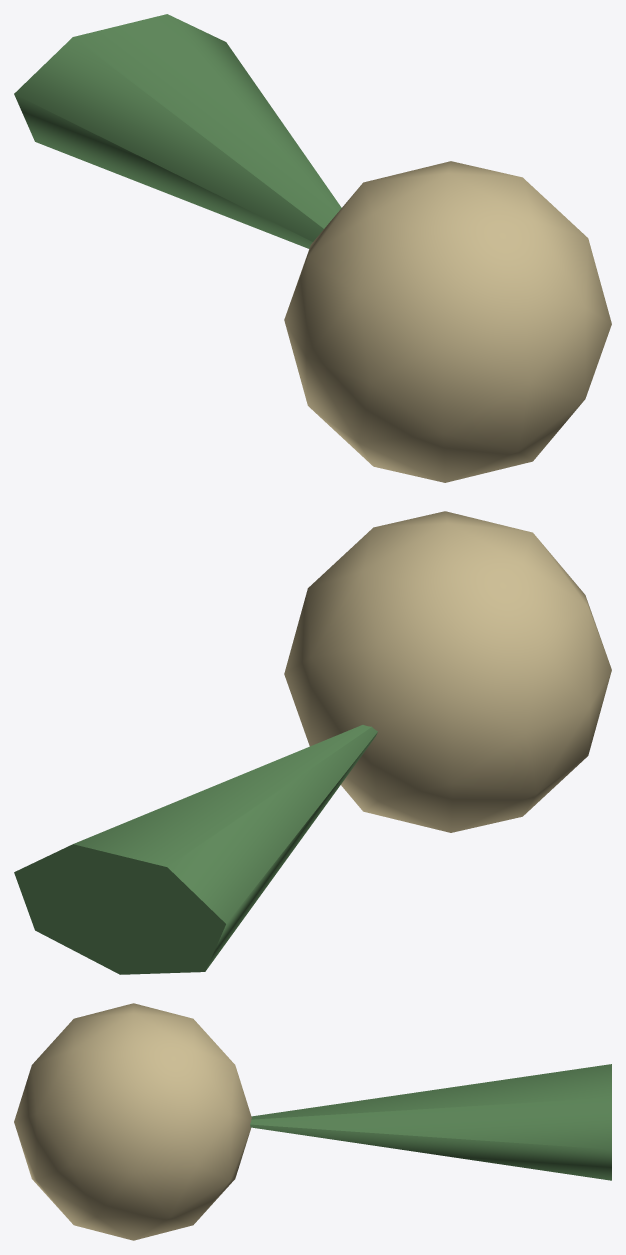
File: wpn_m_10.glb
3 views of the same model, one above another, from view 1: azimuth 30°, elevation 25°; view 2: azimuth 150°, elevation 25°; view 3: azimuth 270°, elevation 25° (orthographic). The views are drawn at different scales.
Visible parts, largest first — view 1: projectile_core, projectile_trail; view 2: projectile_core, projectile_trail; view 3: projectile_core, projectile_trail.
Boxes of the visible parts, <box> form: projectile_core: <box>284,161,611,482</box>; projectile_trail: <box>14,14,341,248</box>; projectile_core: <box>284,511,611,832</box>; projectile_trail: <box>14,725,377,974</box>; projectile_core: <box>14,1003,251,1240</box>; projectile_trail: <box>250,1064,611,1180</box>.
Size of the model in its own units: 0.3 by 0.3 by 0.75.
